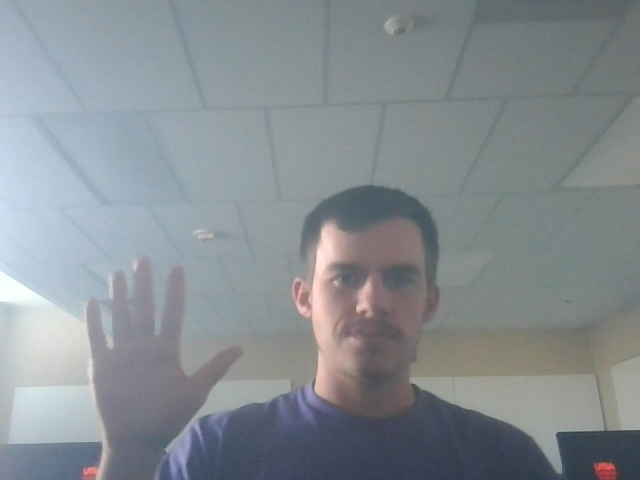hello: (70, 251, 252, 453)
